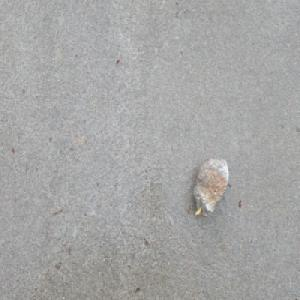Rock: (193, 156, 230, 219)
